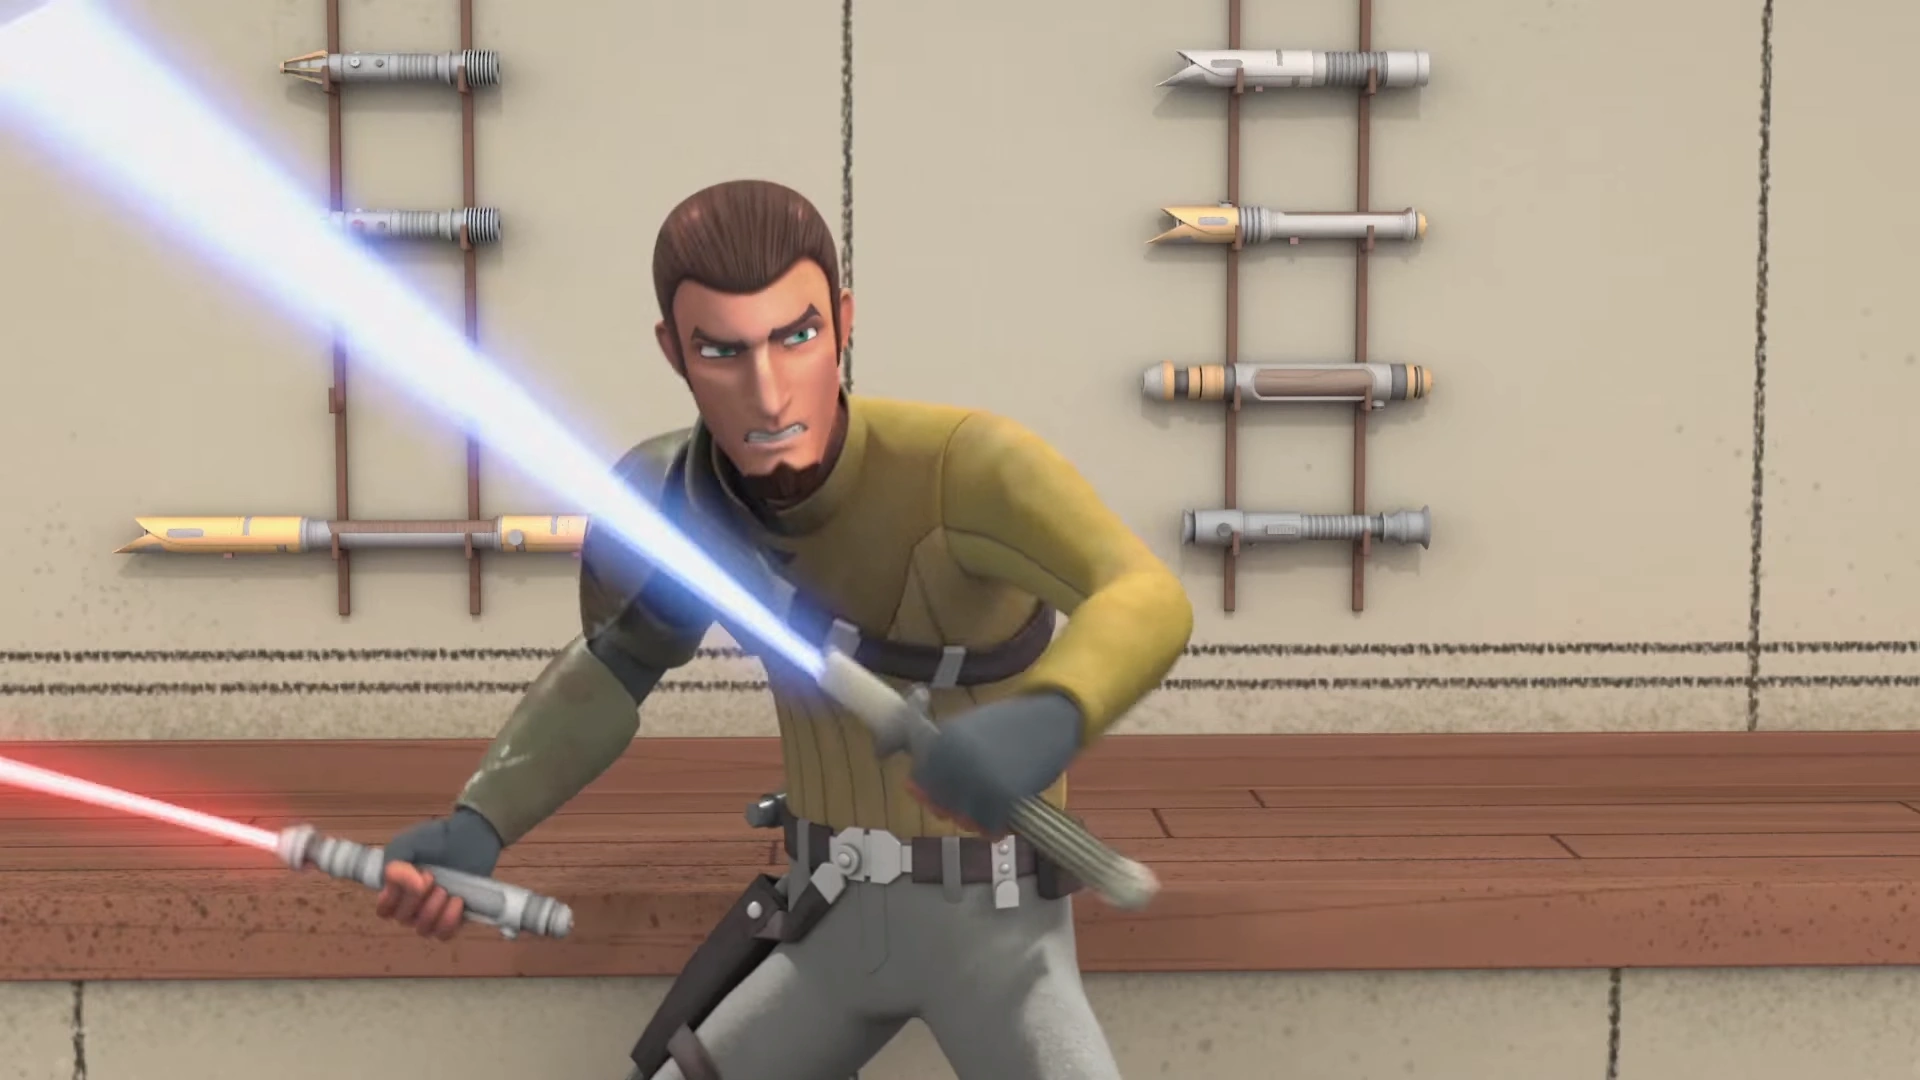cats: (0, 733, 582, 947)
